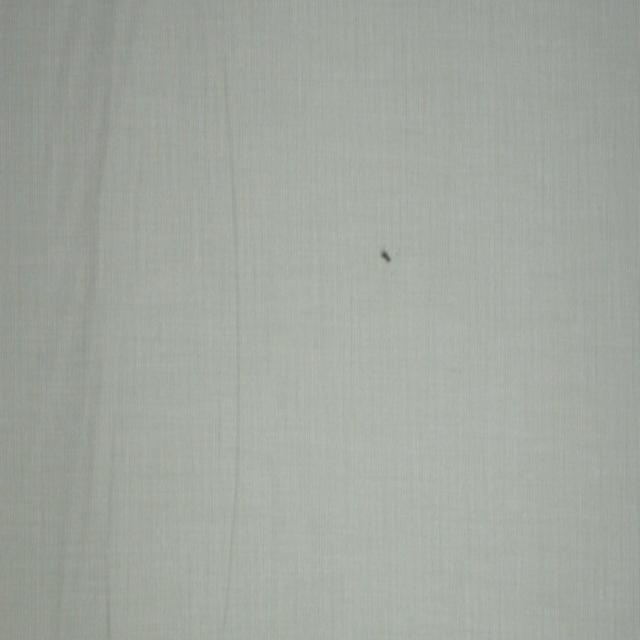dirty: (381, 249, 393, 264)
